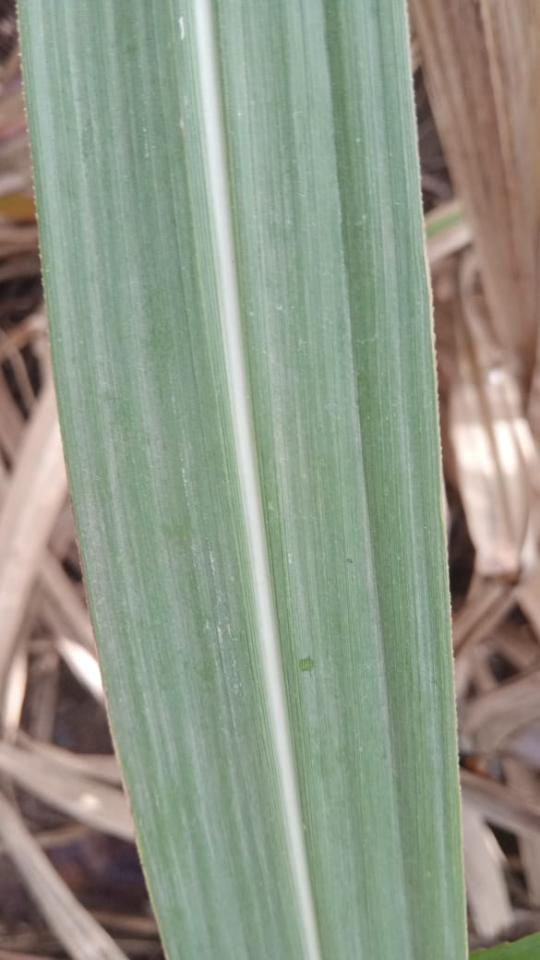Healthy: (16, 0, 469, 959)
